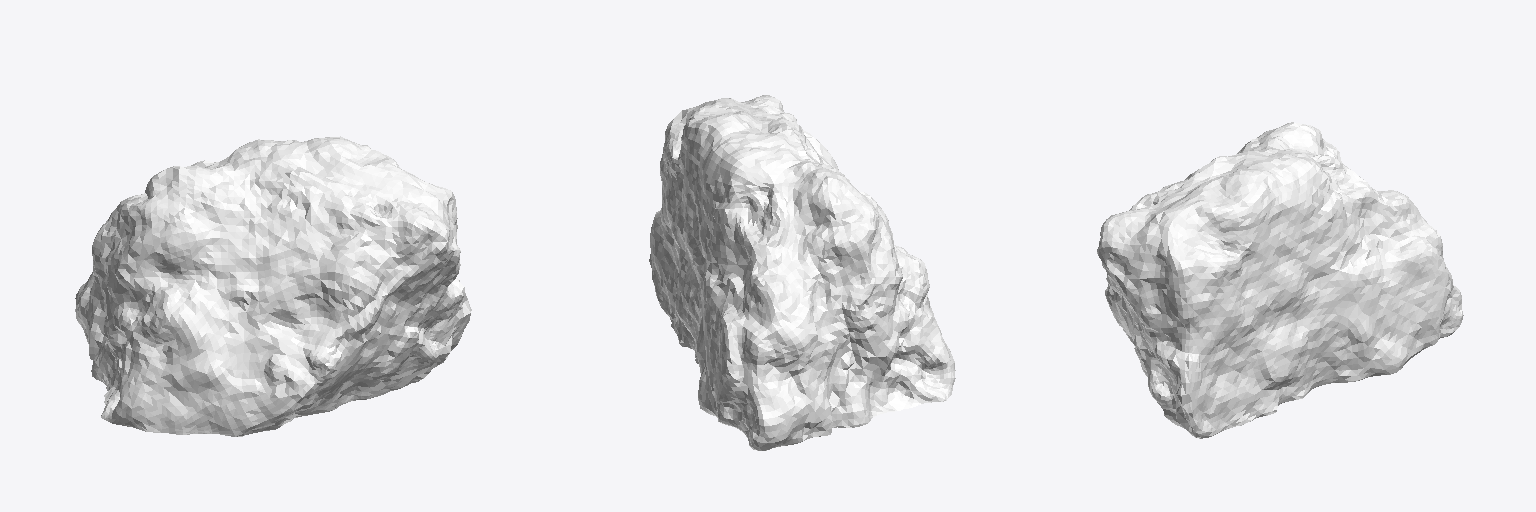
File: rock.obj
The picture shows the model from 3 angles: view 1: azimuth 30°, elevation 25°; view 2: azimuth 150°, elevation 25°; view 3: azimuth 270°, elevation 25°; orthographic projection.
Visible parts, largest first — view 1: obj1; view 2: obj1; view 3: obj1.
Part boxes in pixels (bbox=[...]): obj1: bbox=[75, 136, 471, 436]; obj1: bbox=[649, 95, 955, 450]; obj1: bbox=[1097, 122, 1463, 438].
Bounding box in the file's own units: 8.27 × 5.36 × 7.9.